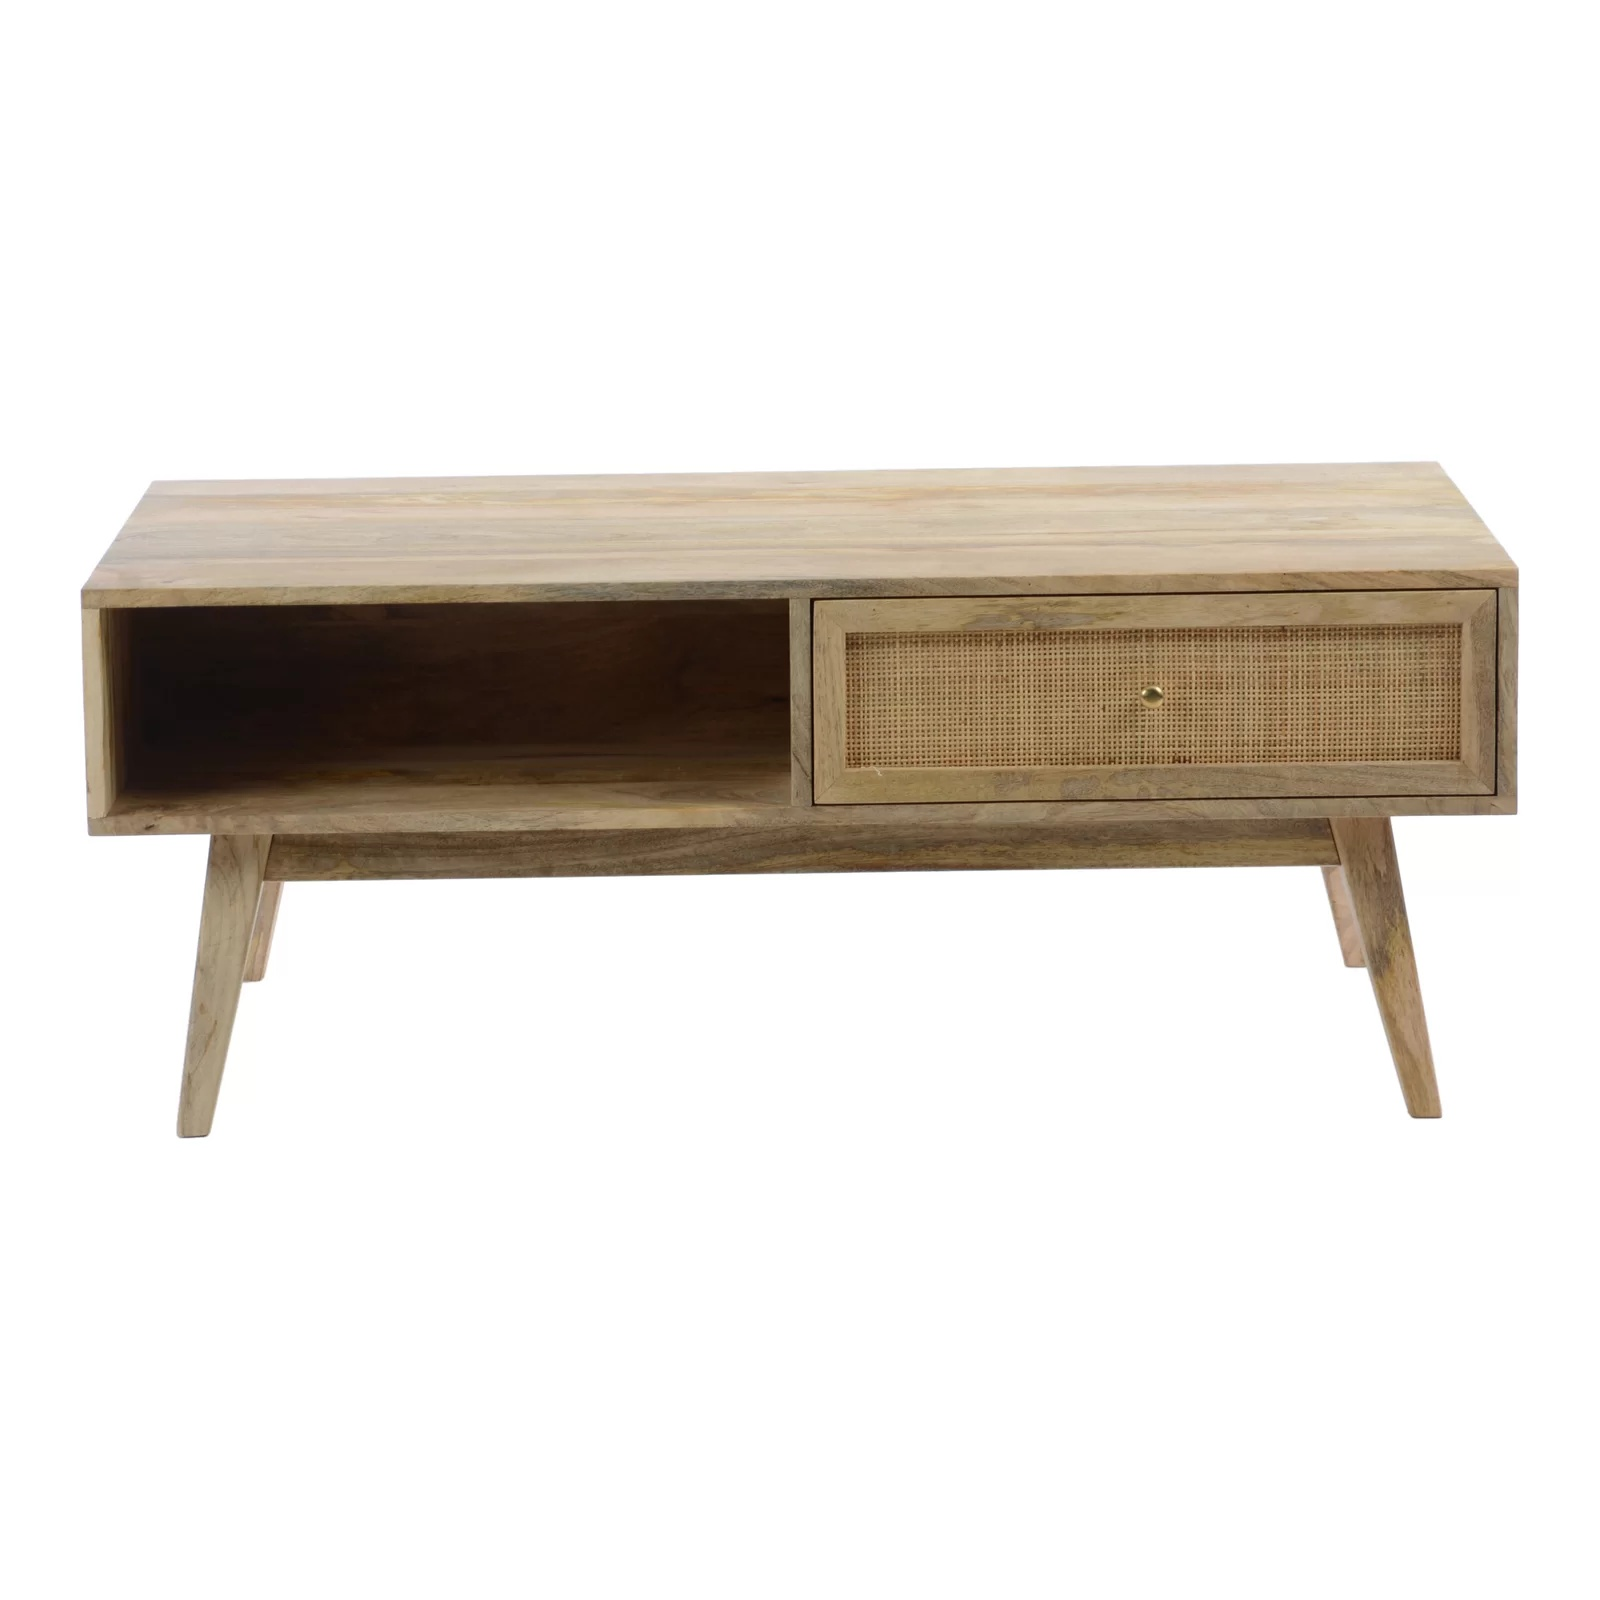obstacle: (84, 463, 1516, 1136)
